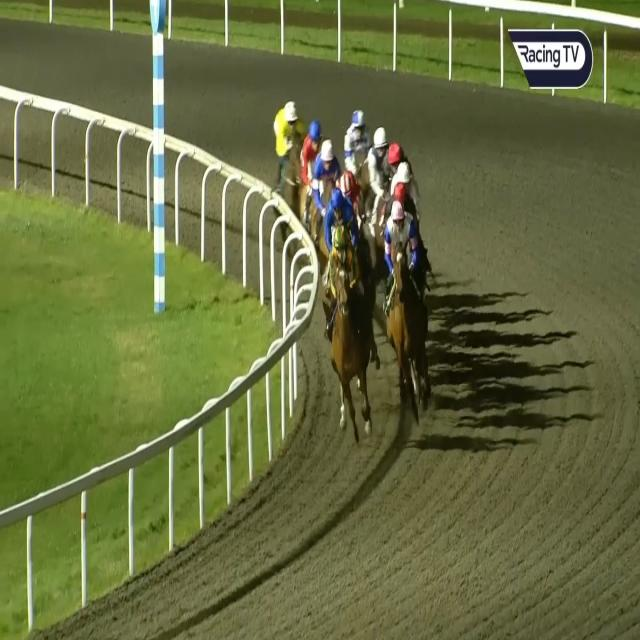horses-racing: (374, 201, 432, 404), (329, 229, 359, 412), (321, 188, 368, 264), (339, 99, 374, 190), (272, 94, 302, 198), (359, 123, 396, 204), (310, 127, 342, 216), (294, 116, 322, 188), (394, 159, 425, 203), (386, 177, 417, 220), (336, 166, 362, 210), (379, 134, 401, 170)
